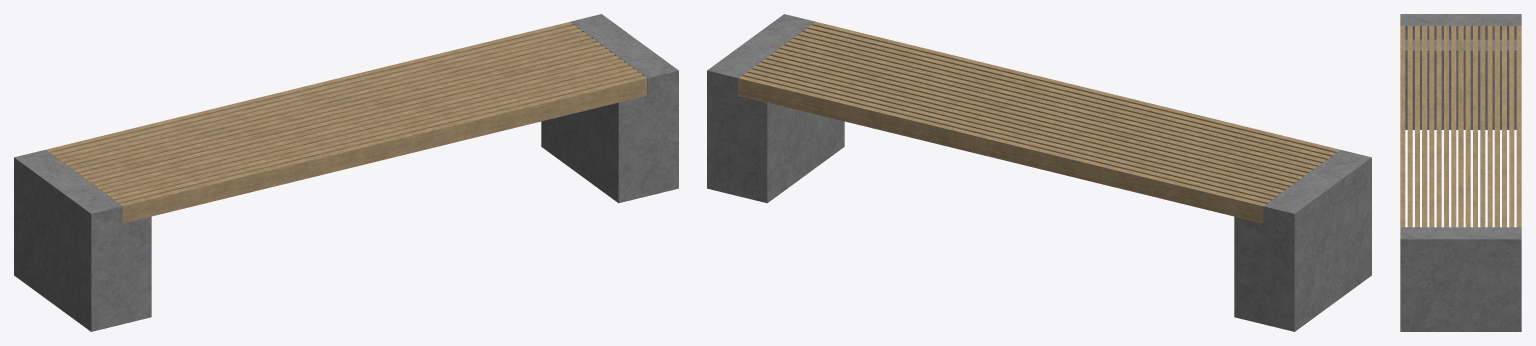
The model's file is cc0_-_bench.glb.
The picture shows the model from 3 angles, left to right: view 1: azimuth 30°, elevation 25°; view 2: azimuth 150°, elevation 25°; view 3: azimuth 270°, elevation 25°; orthographic projection. The views are drawn at different scales.
Parts seen in each view (by area): view 1: Bench; view 2: Bench; view 3: Bench.
Boxes of the visible parts, x1,y1,x2,y2 form: Bench: (14, 14, 678, 331); Bench: (707, 14, 1371, 331); Bench: (1400, 14, 1521, 331).
Size of the model in its own units: 2.24 by 0.43 by 0.51.
1 material, 1 textured.
